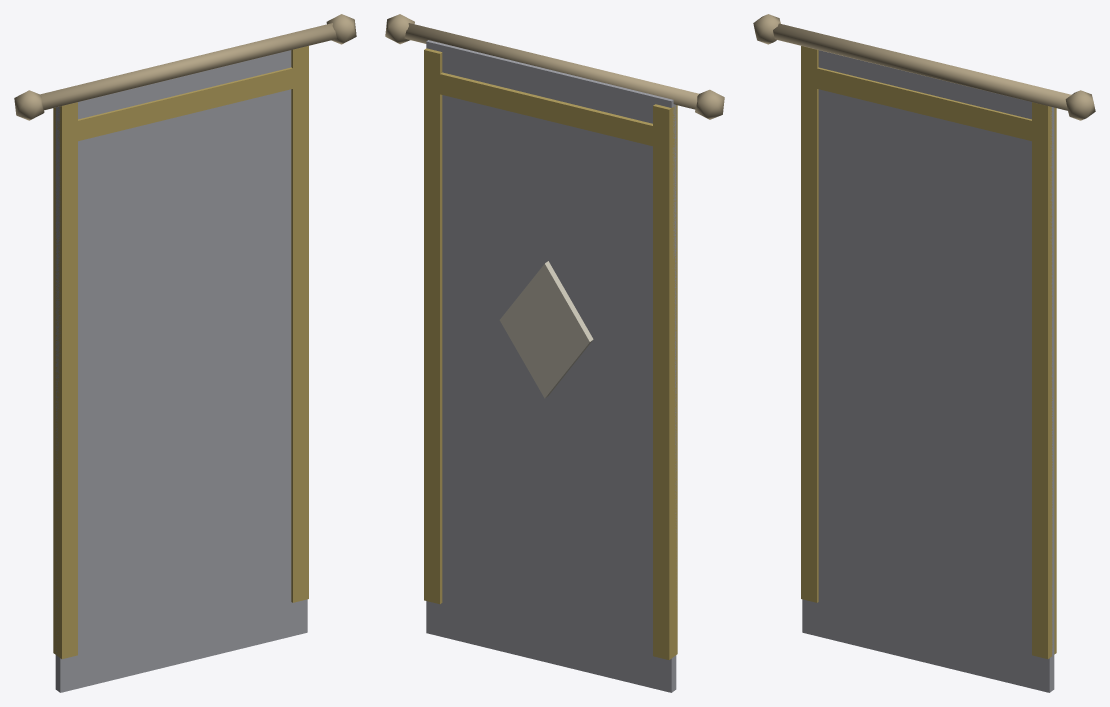
The model's file is snow_flinx_banner_v0.glb.
The picture shows the model from 3 angles, left to right: view 1: azimuth 30°, elevation 25°; view 2: azimuth 150°, elevation 25°; view 3: azimuth 330°, elevation 25°; orthographic projection.
Visible parts, largest first — view 1: snow_flinx_banner_v0; view 2: snow_flinx_banner_v0; view 3: snow_flinx_banner_v0.
Boxes of the visible parts, x1,y1,x2,y2 form: snow_flinx_banner_v0: (14,14,356,692); snow_flinx_banner_v0: (385,14,724,692); snow_flinx_banner_v0: (753,14,1095,692).
Size of the model in its own units: 1.04 by 1.8 by 0.0933.
